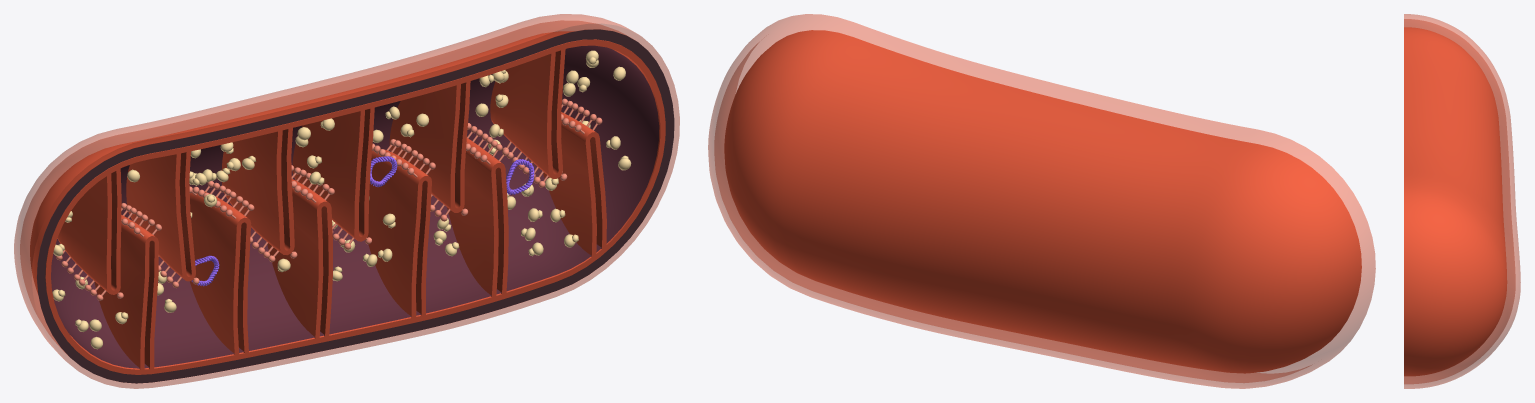
File: mitocondria.glb
The picture shows the model from 3 angles, left to right: view 1: azimuth 30°, elevation 25°; view 2: azimuth 150°, elevation 25°; view 3: azimuth 270°, elevation 25°; orthographic projection. The views are drawn at different scales.
Visible parts, largest first — view 1: cristas, matriz, membrana_externa, membrana_interna, espaco_intermembranas, ribossomos, atp_sintase, dna_mitocondrial; view 2: membrana_externa, membrana_interna; view 3: membrana_externa, membrana_interna.
Boxes of the visible parts, x1=… form: cristas: x1=57, y1=49, x2=606, y2=372; matriz: x1=51, y1=45, x2=659, y2=368; membrana_externa: x1=14, y1=14, x2=679, y2=388; membrana_interna: x1=30, y1=31, x2=665, y2=374; espaco_intermembranas: x1=36, y1=29, x2=674, y2=383; ribossomos: x1=52, y1=50, x2=631, y2=349; atp_sintase: x1=56, y1=98, x2=602, y2=300; dna_mitocondrial: x1=191, y1=156, x2=534, y2=286; membrana_externa: x1=708, y1=14, x2=1375, y2=388; membrana_interna: x1=724, y1=30, x2=1361, y2=373; membrana_externa: x1=1404, y1=14, x2=1520, y2=388; membrana_interna: x1=1404, y1=27, x2=1507, y2=376.
Bounding box in the file's own units: 2.19 × 0.8821 × 0.4393.
